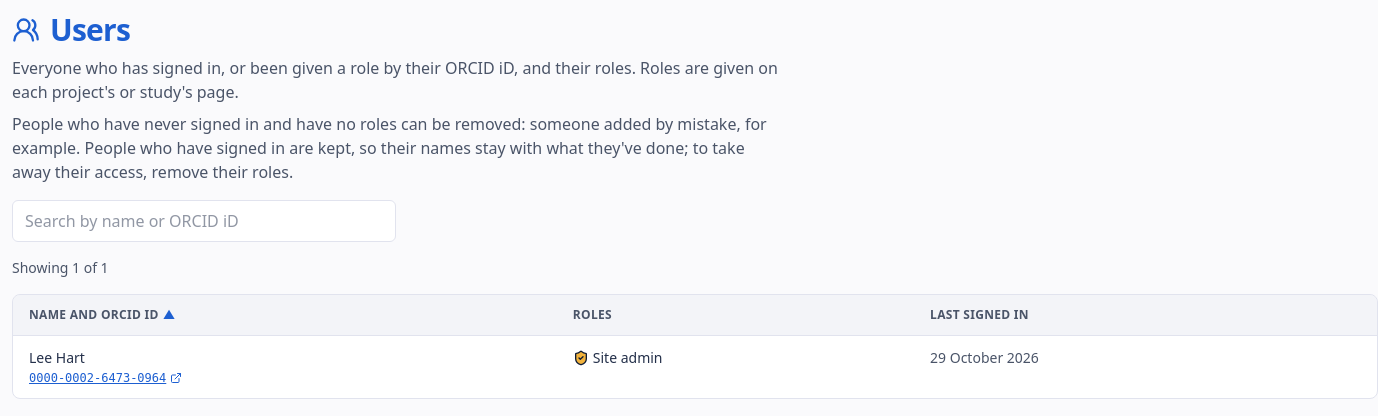
Test: UsersPage › sorts and searches
This screenshot has width=1378, height=416.
Click the button "Last signed in" at (988, 315), box [930,307,1045,323]
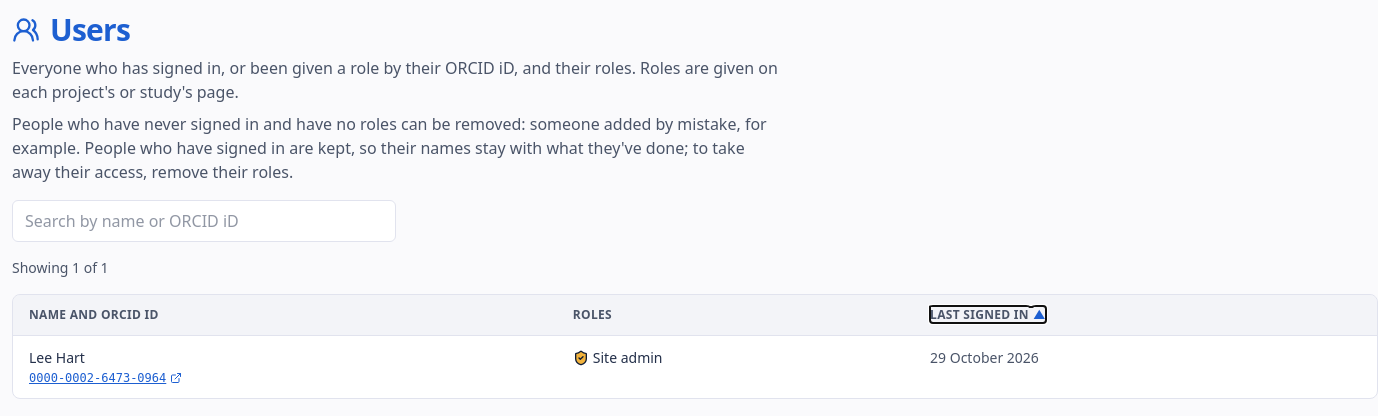
Type "smith" into the search field named "Search users" at (204, 221), box [12,200,396,242]
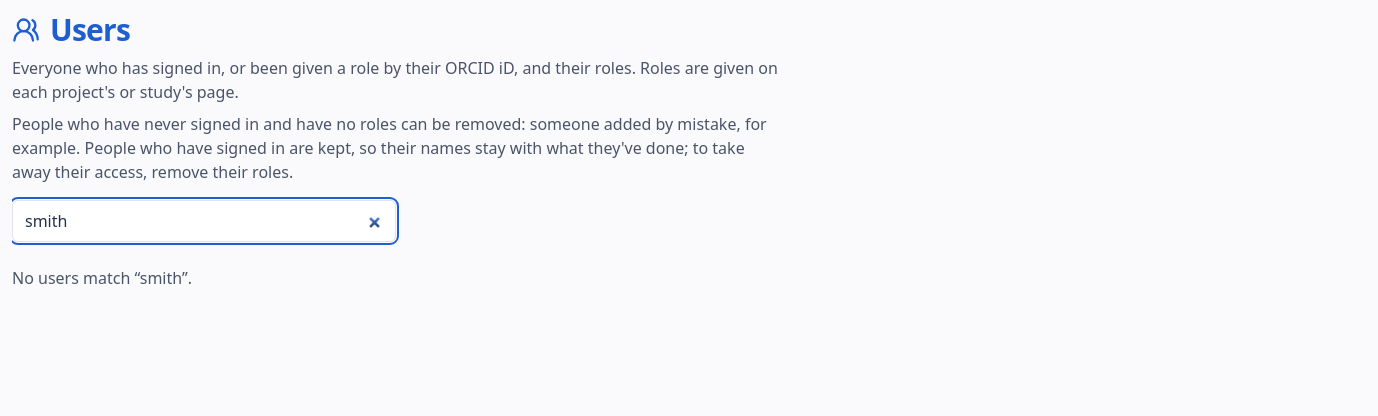
Expected: the text "No users match “smith”." is shown, [12,267,192,289]
